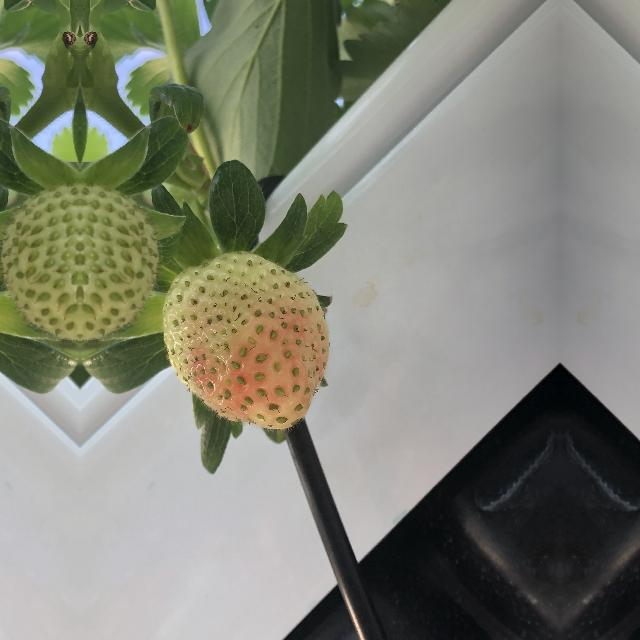Health_25: (80, 182, 162, 340), (0, 182, 80, 340)
Health_50: (168, 246, 336, 434)
